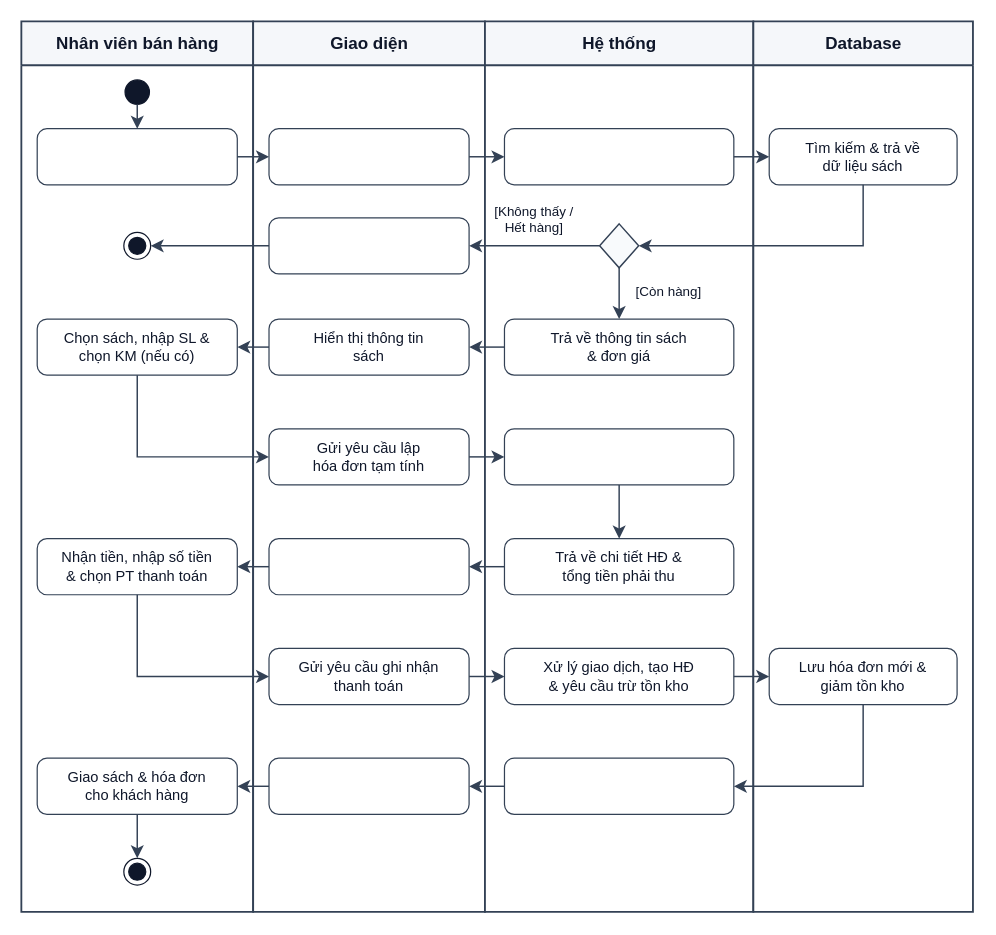
This 996x935 diagram has some shape labels left out. Here are the shapes that lost their labels. From the top down, the centre of each, then its label:
point 136,156: Nhập từ khóa tìm sách & bấm "Tìm kiếm"
point 368,156: Gửi yêu cầu tra cứu sách bán
point 618,156: Truy vấn thông tin sách & số lượng tồn kho
point 368,245: Báo lỗi "Sách không tồn tại hoặc đã hết hàng"
point 618,456: Kiểm tra điều kiện KM & tính tổng tiền
point 368,566: Hiển thị hóa đơn & tổng tiền thanh toán
point 368,785: Thông báo thành công & In hóa đơn
point 618,785: Xác nhận hoàn tất giao dịch bán hàng
